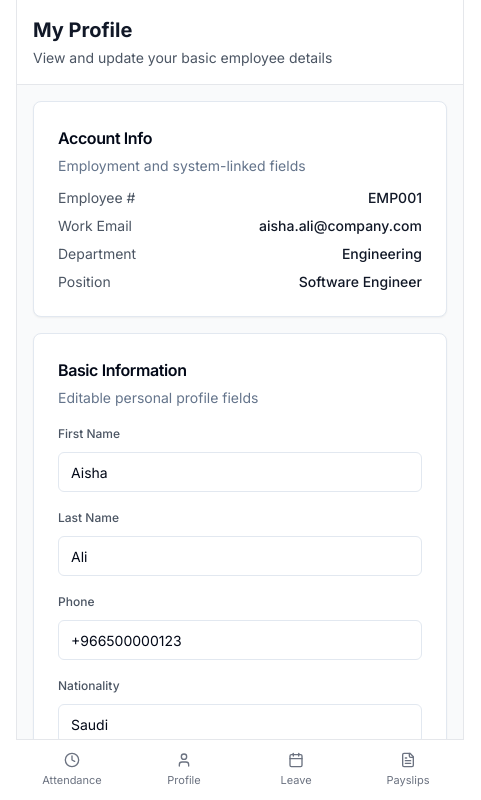
MobileProfilePage › submits profile updates and shows success
Replace the text in the field labelled "First Name" with "Sara": coordinates (240, 472) [58,452,422,492]
(page scrolled)
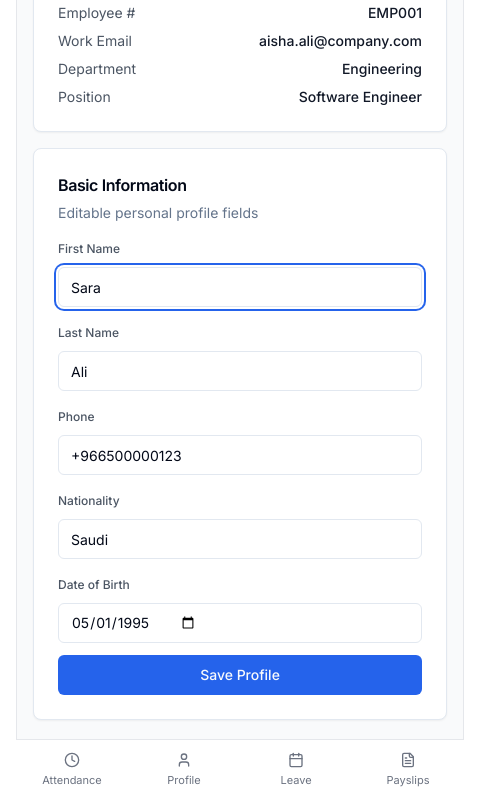
Click the button "Save Profile": coordinates (240, 675) [58,655,422,695]
(page scrolled)
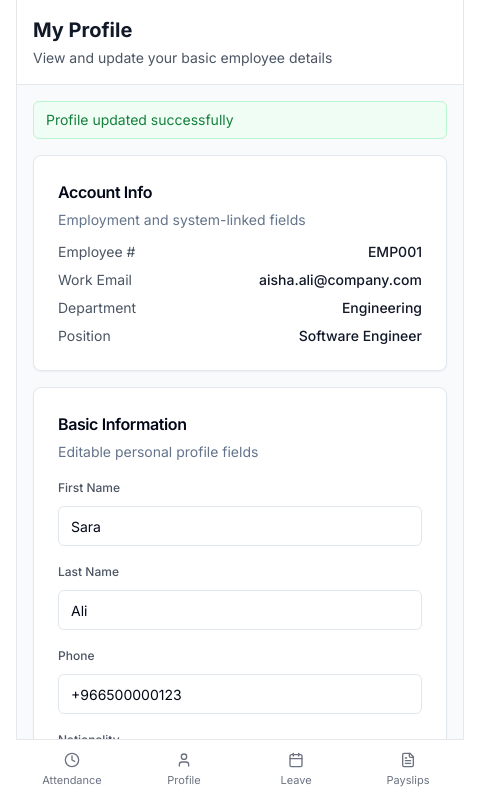
Now the text "Profile updated successfully" is shown, box [33,101,447,139]
